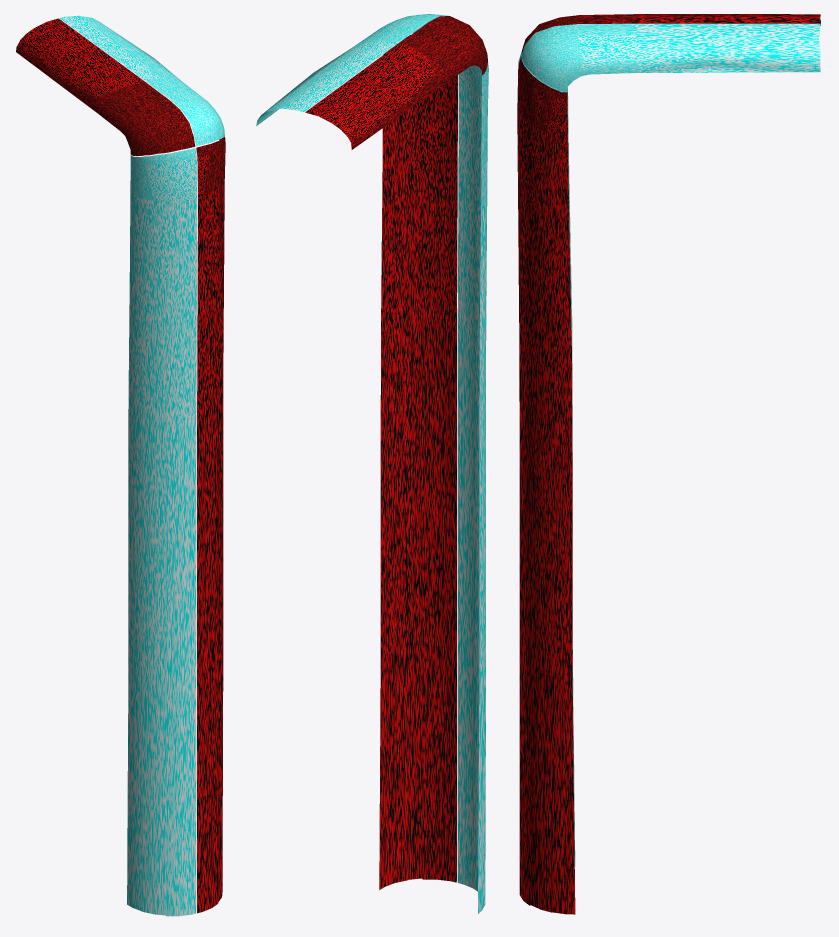
The model's file is SM_Water_pillar_01_GDH.fbx.
3 renders of one model, left to right at view 1: azimuth 30°, elevation 25°; view 2: azimuth 150°, elevation 25°; view 3: azimuth 270°, elevation 25°, orthographic. The views are drawn at different scales.
Visible parts, largest first — view 1: SM_Water_pillar_01_GDH; view 2: SM_Water_pillar_01_GDH; view 3: SM_Water_pillar_01_GDH.
Boxes of the visible parts, box(x1,y1,x2,y2) form: SM_Water_pillar_01_GDH: box(16, 15, 225, 916); SM_Water_pillar_01_GDH: box(256, 14, 488, 913); SM_Water_pillar_01_GDH: box(517, 14, 820, 914).
Size of the model in its own units: 18.32 by 157 by 50.02.
